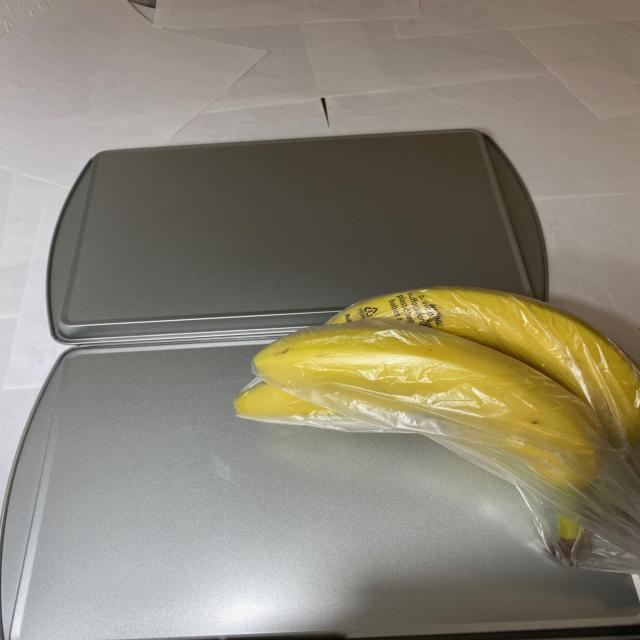banana: (228, 278, 633, 581)
